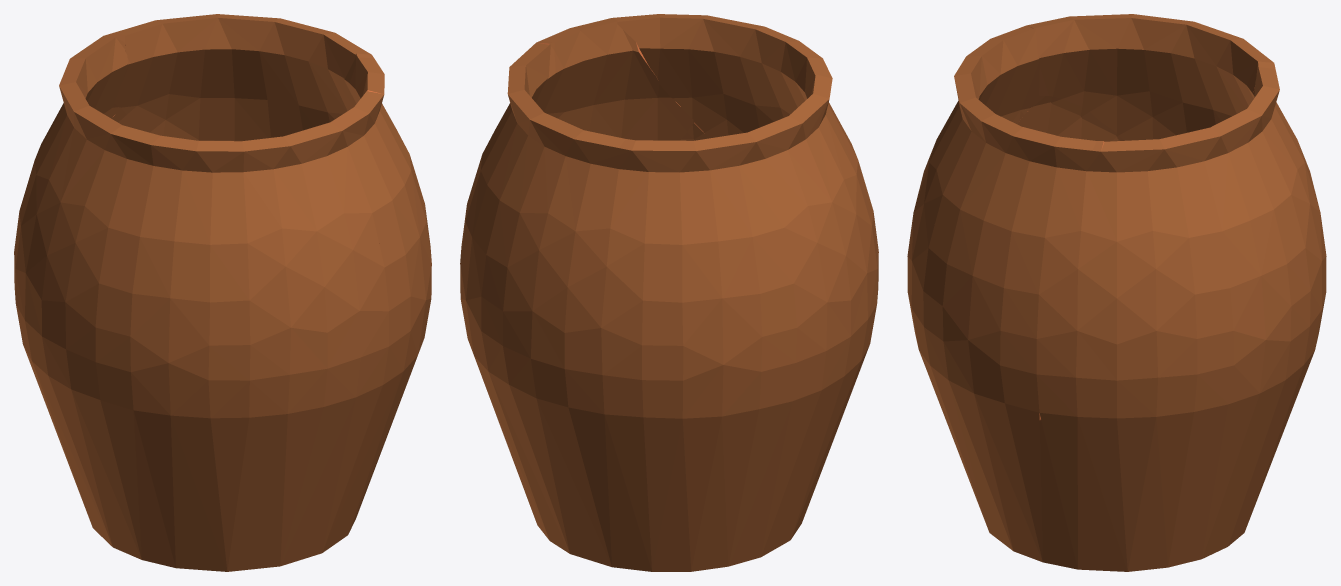
The model's file is Pottery 1_1b.fbx.
3 views of the same model, side by side, from view 1: azimuth 30°, elevation 25°; view 2: azimuth 150°, elevation 25°; view 3: azimuth 270°, elevation 25° (orthographic).
Parts seen in each view (by area): view 1: Pottery 1_1b.002, Pottery 1_1b.003, Pottery 1_1b.005, Pottery 1_1b.008, Pottery 1_1b.006, Pottery 1_1b, Pottery 1_1b.001, Pottery 1_1b.007; view 2: Pottery 1_1b, Pottery 1_1b.006, Pottery 1_1b.004, Pottery 1_1b.005, Pottery 1_1b.002, Pottery 1_1b.007, Pottery 1_1b.003; view 3: Pottery 1_1b.007, Pottery 1_1b.005, Pottery 1_1b.001, Pottery 1_1b, Pottery 1_1b.006, Pottery 1_1b.002, Pottery 1_1b.004, Pottery 1_1b.003.
Boxes of the visible parts, x1=… form: Pottery 1_1b.002: x1=121, y1=91, x2=384, y2=361; Pottery 1_1b.003: x1=30, y1=216, x2=249, y2=474; Pottery 1_1b.005: x1=114, y1=14, x2=371, y2=141; Pottery 1_1b.008: x1=122, y1=360, x2=357, y2=548; Pottery 1_1b.006: x1=15, y1=32, x2=159, y2=268; Pottery 1_1b: x1=14, y1=244, x2=373, y2=571; Pottery 1_1b.001: x1=271, y1=244, x2=417, y2=484; Pottery 1_1b.007: x1=344, y1=53, x2=431, y2=354; Pottery 1_1b: x1=464, y1=290, x2=839, y2=571; Pottery 1_1b.006: x1=596, y1=74, x2=856, y2=338; Pottery 1_1b.004: x1=463, y1=232, x2=740, y2=480; Pottery 1_1b.005: x1=460, y1=42, x2=625, y2=314; Pottery 1_1b.002: x1=612, y1=14, x2=862, y2=174; Pottery 1_1b.007: x1=536, y1=18, x2=693, y2=140; Pottery 1_1b.003: x1=831, y1=159, x2=878, y2=425; Pottery 1_1b.007: x1=934, y1=127, x2=1134, y2=424; Pottery 1_1b.005: x1=1101, y1=67, x2=1314, y2=397; Pottery 1_1b.001: x1=907, y1=225, x2=1221, y2=515; Pottery 1_1b: x1=971, y1=384, x2=1280, y2=571; Pottery 1_1b.006: x1=1026, y1=14, x2=1303, y2=154; Pottery 1_1b.002: x1=908, y1=25, x2=1045, y2=248; Pottery 1_1b.004: x1=1231, y1=152, x2=1326, y2=444; Pottery 1_1b.003: x1=1018, y1=96, x2=1119, y2=141.
Bounding box in the file's own units: 72.32 × 83.1 × 72.32.
